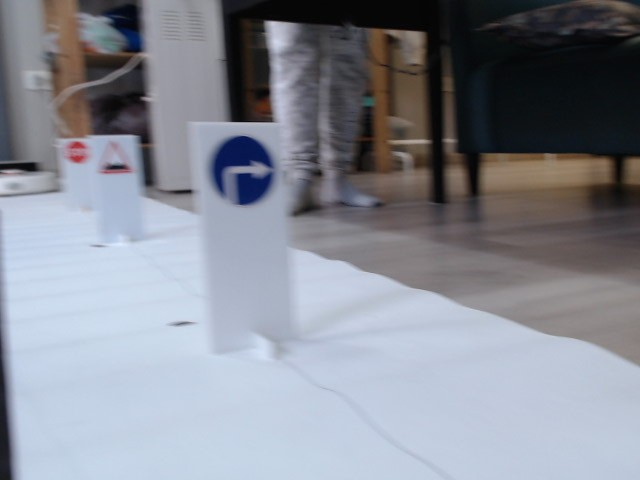Nerov: (97, 140, 133, 178)
Right: (211, 137, 275, 201)
